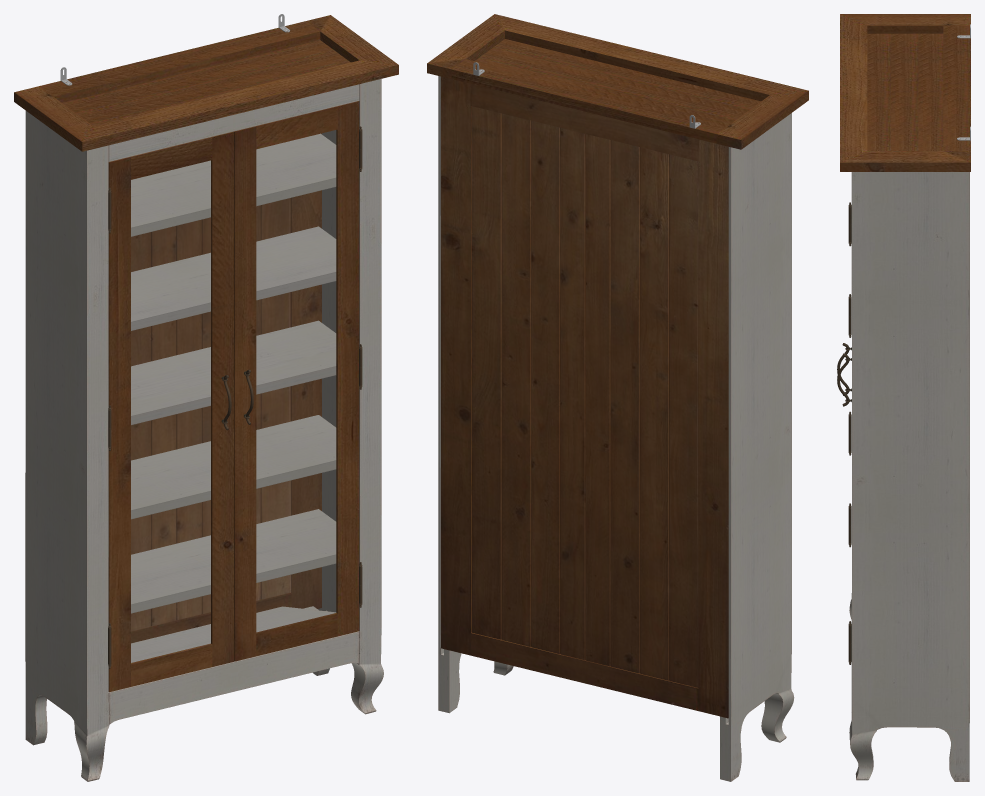
The picture shows the model from 3 angles, left to right: view 1: azimuth 30°, elevation 25°; view 2: azimuth 150°, elevation 25°; view 3: azimuth 270°, elevation 25°; orthographic projection. The views are drawn at different scales.
Parts seen in each view (by area): view 1: Object_7, Object_6, Object_4, Object_3; view 2: Object_6, Object_7; view 3: Object_7, Object_6, Object_3.
Part boxes in pixels (x1,y1,x2,y2): Object_7: (25, 79, 383, 781); Object_6: (14, 15, 398, 692); Object_4: (131, 130, 335, 662); Object_3: (108, 126, 362, 668); Object_6: (427, 14, 808, 718); Object_7: (438, 76, 794, 781); Object_7: (849, 172, 969, 781); Object_6: (840, 14, 970, 171); Object_3: (837, 202, 851, 664).
Size of the model in its own units: 102 by 204 by 38.8.
Materials: 5 (4 with a texture image).
